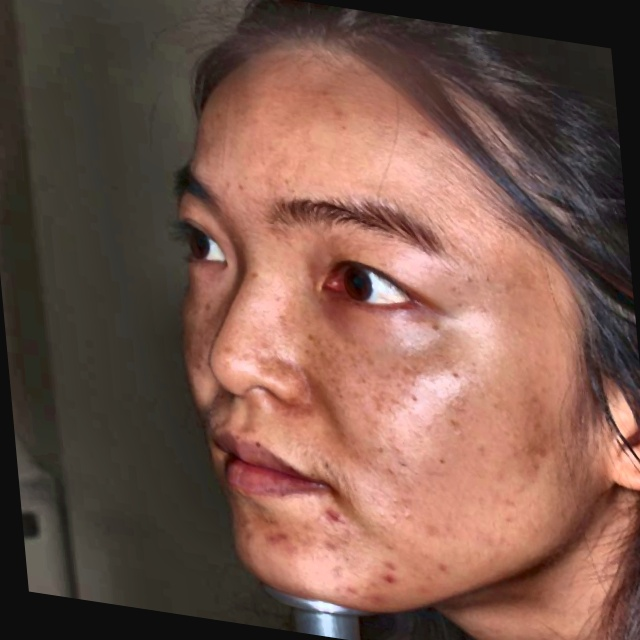comedone: (369, 564, 416, 594), (315, 501, 349, 533), (266, 528, 290, 552)
